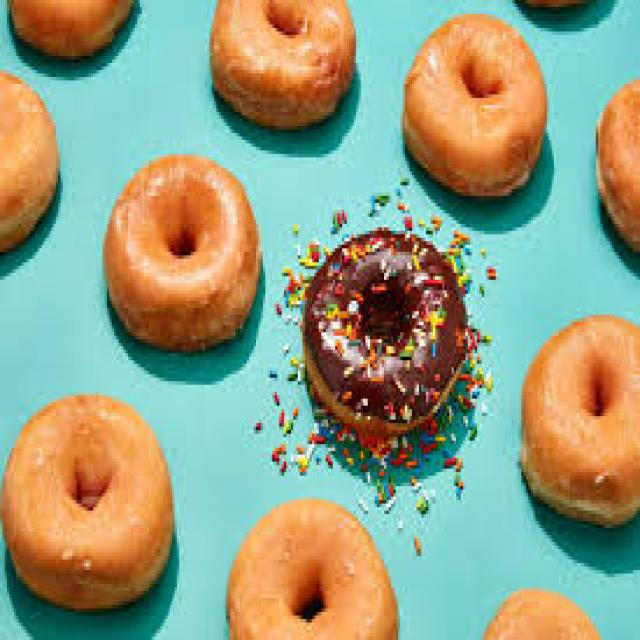Donut: (0, 392, 189, 602), (509, 289, 640, 578), (316, 232, 474, 467), (114, 162, 282, 359), (391, 7, 555, 187), (224, 479, 402, 640), (201, 0, 373, 155)
